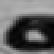correct: (0, 15, 54, 52)
